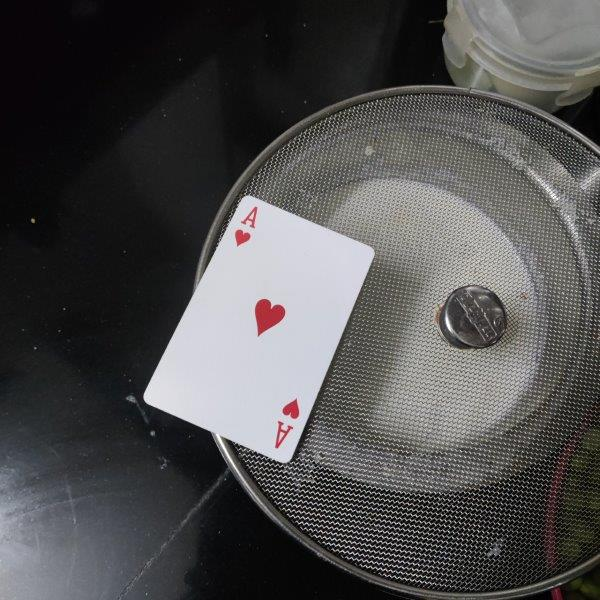Ace of Hearts: (143, 195, 377, 463)
